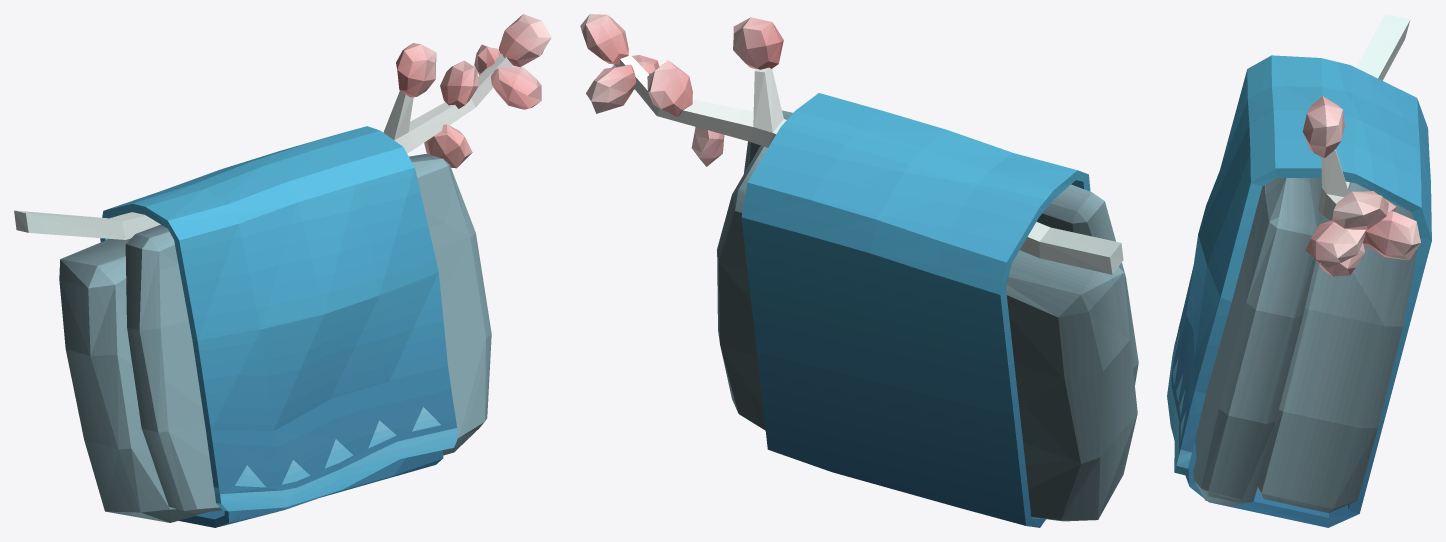
The model's file is CharSkyKid_Prop_TeaTable.glb.
3 views of the same model, side by side, from view 1: azimuth 30°, elevation 25°; view 2: azimuth 150°, elevation 25°; view 3: azimuth 270°, elevation 25° (orthographic). The views are drawn at different scales.
Visible parts, largest first — view 1: CharSkyKid_Prop_TeaTable; view 2: CharSkyKid_Prop_TeaTable; view 3: CharSkyKid_Prop_TeaTable.
Boxes of the visible parts, box(x1,y1,x2,y2) form: CharSkyKid_Prop_TeaTable: box(14, 14, 551, 527); CharSkyKid_Prop_TeaTable: box(580, 14, 1138, 527); CharSkyKid_Prop_TeaTable: box(1167, 14, 1431, 527).
Bounding box in the file's own units: 5.6 × 4.27 × 2.25.
Materials: 1 (1 with a texture image).
